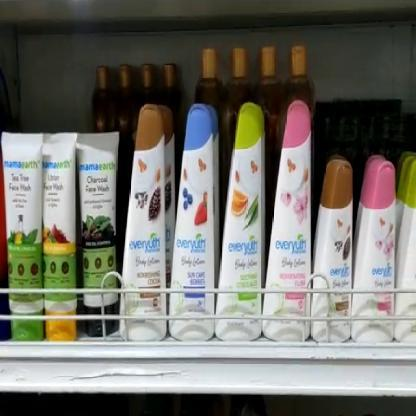Everyuth Naturals Body Lotion Nourishing Cocoa 200ml: (121, 102, 168, 336)
Everyuth Naturals Body Lotion Rejuvenating Flora 200ml: (264, 100, 312, 340)
Everyuth Naturals Body Lotion Soothing Citrus 200ml: (216, 105, 266, 339)
Everyuth Naturals Body Lotion Sun Care Berries SPF 15 200ml: (169, 103, 216, 338)
